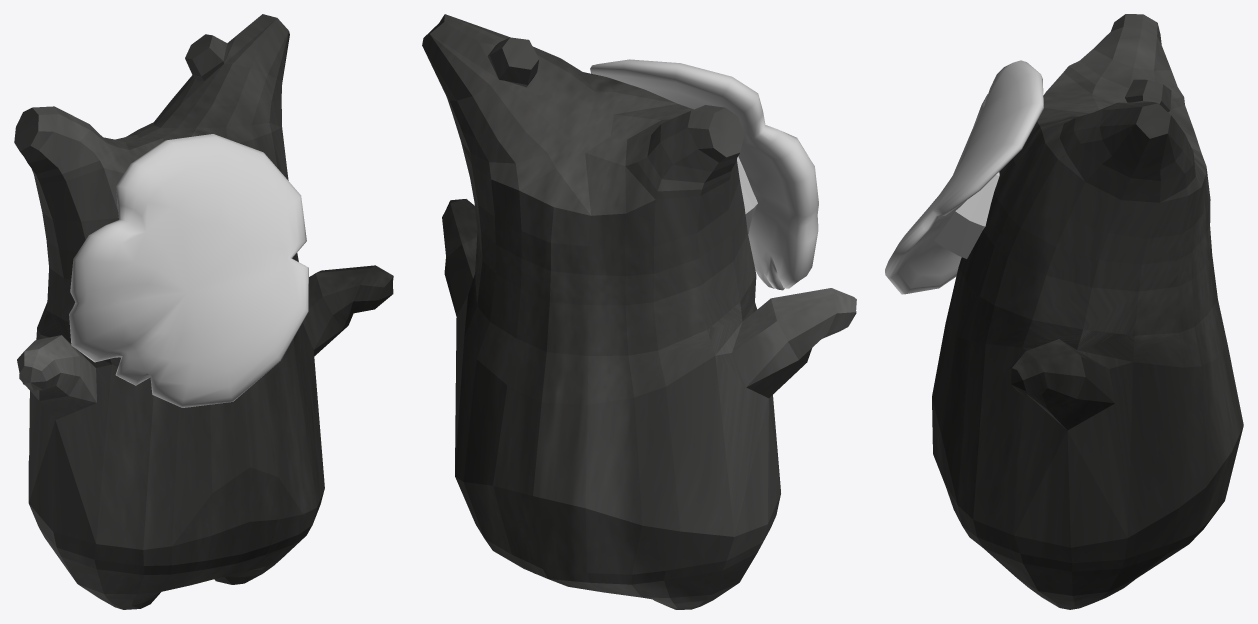
Rendered from frame_0011.obj.
The picture shows the model from 3 angles, left to right: view 1: azimuth 30°, elevation 25°; view 2: azimuth 150°, elevation 25°; view 3: azimuth 270°, elevation 25°; orthographic projection. The views are drawn at different scales.
Parts seen in each view (by area): view 1: korok, leaf; view 2: korok, leaf, nose; view 3: korok, leaf, nose.
Boxes of the visible parts, box(x1,y1,x2,y2) form: korok: box(14, 14, 393, 609); leaf: box(69, 134, 308, 407); korok: box(422, 14, 856, 609); leaf: box(590, 59, 818, 290); nose: box(737, 156, 757, 233); korok: box(932, 14, 1243, 609); leaf: box(885, 60, 1043, 294); nose: box(934, 172, 999, 258).
Bounding box in the file's own units: 1.66 × 2.21 × 1.33.
